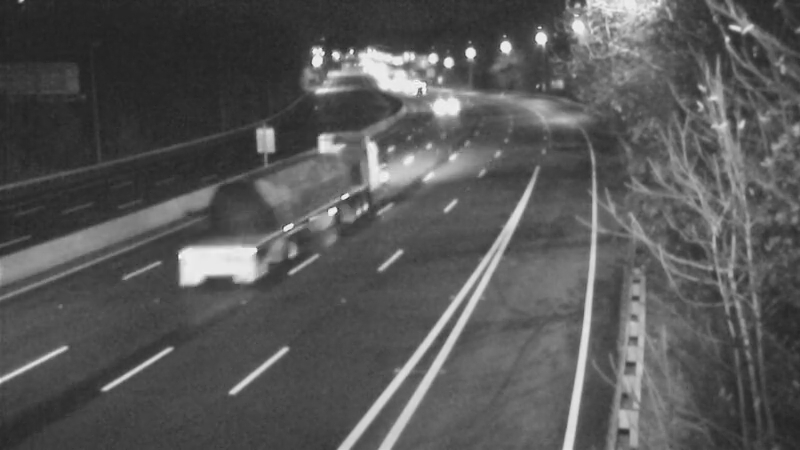vehicle: (247, 160, 327, 240), (396, 65, 446, 115), (418, 86, 468, 136)
